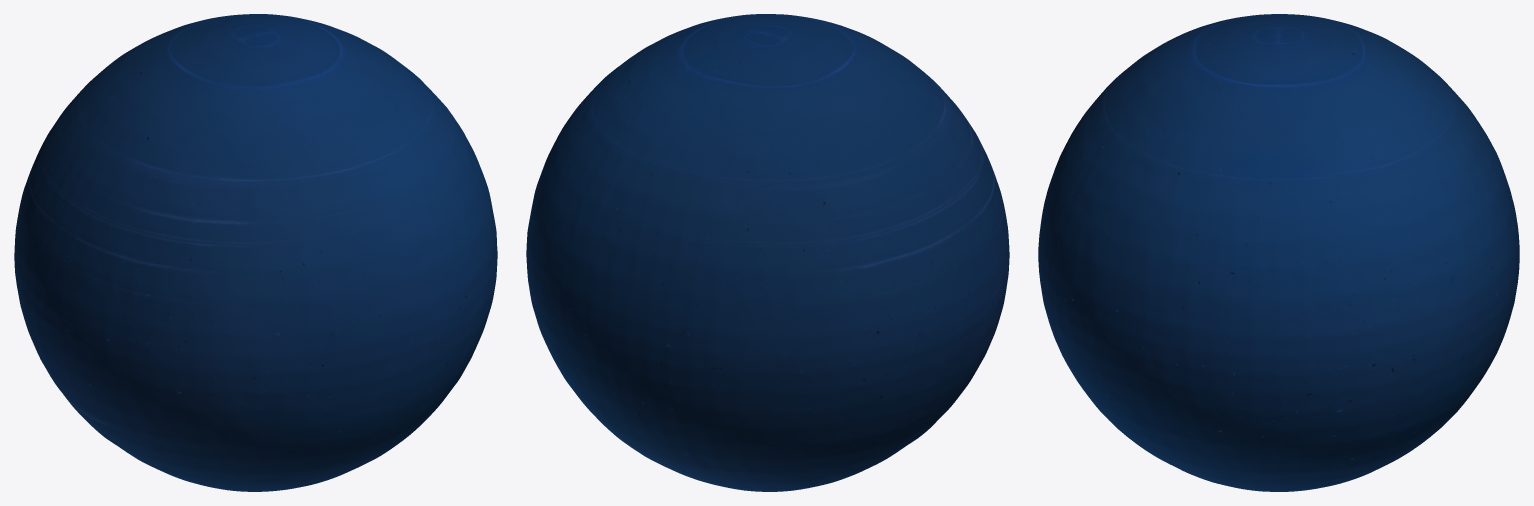
The model's file is blue_ball.glb.
3 views of the same model, side by side, from view 1: azimuth 30°, elevation 25°; view 2: azimuth 150°, elevation 25°; view 3: azimuth 270°, elevation 25° (orthographic).
Parts seen in each view (by area): view 1: world; view 2: world; view 3: world.
Part boxes in pixels (bbox=[...]): world: bbox=[14, 14, 497, 491]; world: bbox=[526, 14, 1009, 491]; world: bbox=[1038, 14, 1519, 491].
Bounding box in the file's own units: 1 × 0.9982 × 0.9937.
Materials: 1 (1 with a texture image).
